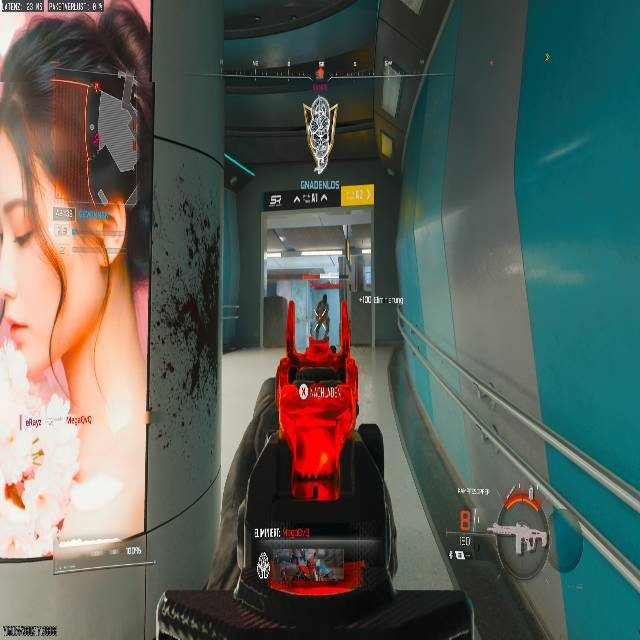head: (321, 295, 327, 304)
player: (313, 296, 329, 339)
